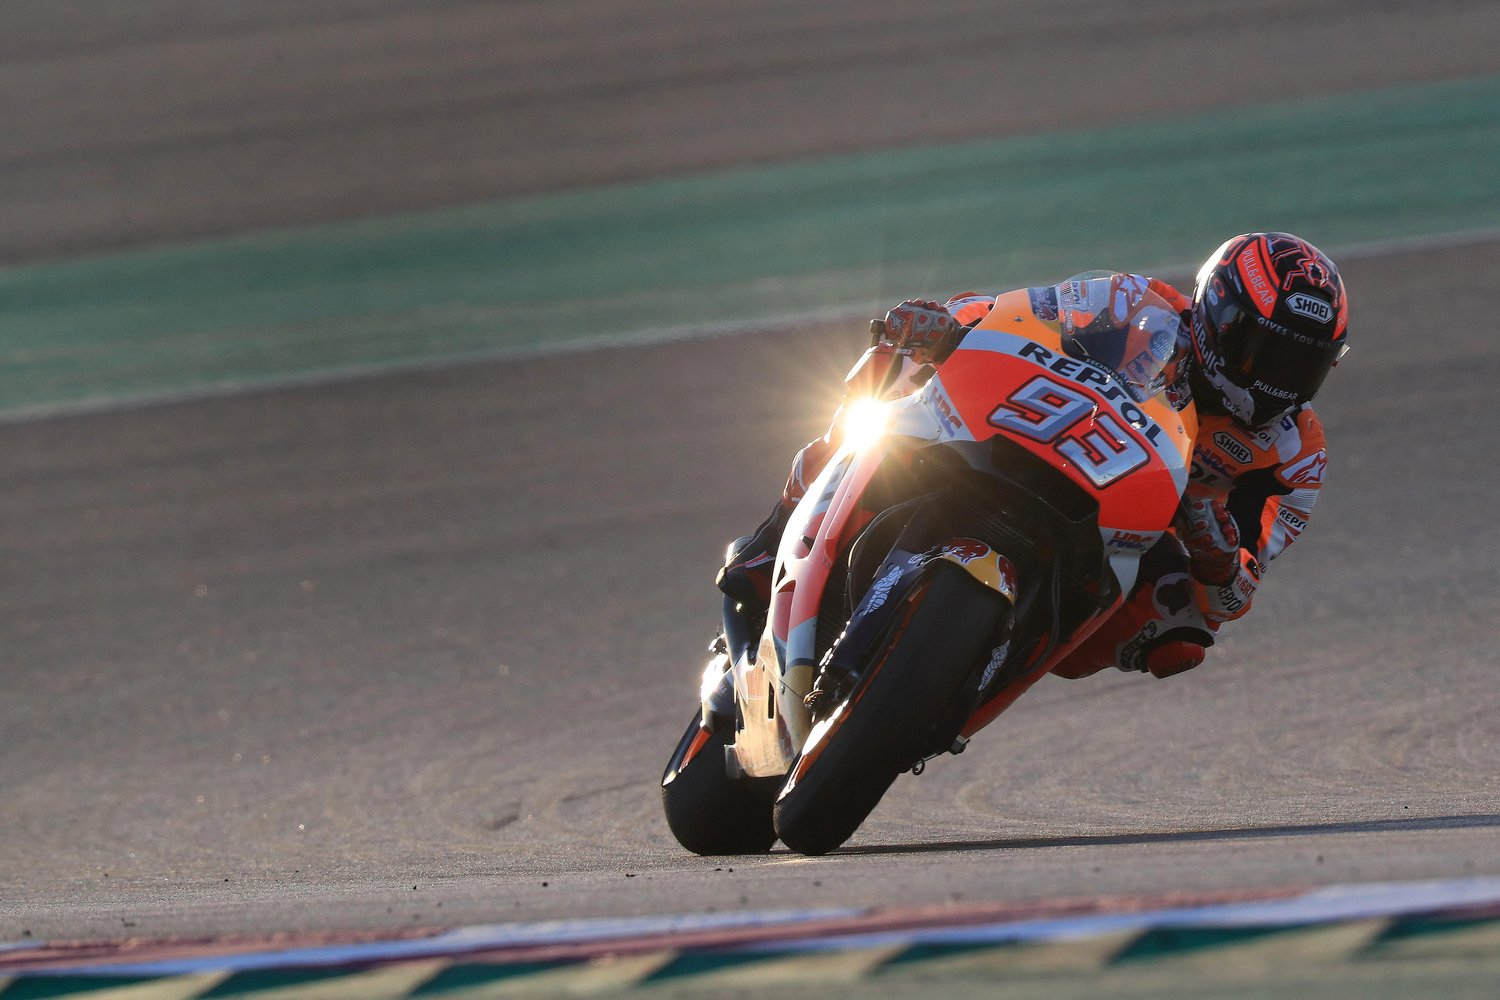helmet: (1175, 197, 1363, 442)
